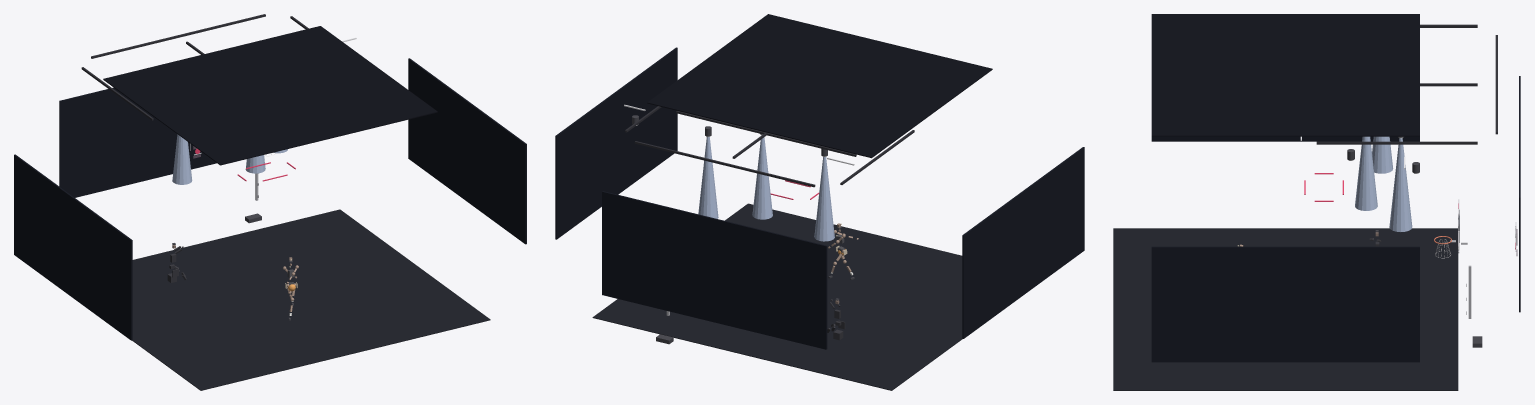
The picture shows the model from 3 angles, left to right: view 1: azimuth 30°, elevation 25°; view 2: azimuth 150°, elevation 25°; view 3: azimuth 270°, elevation 25°; orthographic projection. The views are drawn at different scales.
Visible parts, largest first — view 1: Floor, CeilingPlane, SideWallL, SideWallR, BackWall, LightBeam, TrussX; view 2: CeilingPlane, Floor, BackWall, SideWallL, SideWallR, LightBeam, LightBeam.001, LightBeam.002, TrussX, TrussX.001; view 3: CeilingPlane, SideWallR, Floor, SideWallL, LightBeam.002, LightBeam.001, LightBeam, TrussY.002, BackWall.
Boxes of the visible parts, box(x1,y1,x2,y2) form: Floor: box(132, 209, 490, 390); CeilingPlane: box(103, 26, 437, 165); SideWallL: box(14, 154, 132, 340); SideWallR: box(408, 58, 526, 244); BackWall: box(59, 87, 216, 197); LightBeam: box(172, 134, 192, 184); TrussX: box(91, 14, 265, 58); CeilingPlane: box(647, 14, 992, 158); Floor: box(592, 203, 962, 390); BackWall: box(602, 191, 827, 349); SideWallL: box(962, 147, 1084, 338); SideWallR: box(555, 47, 677, 239); LightBeam: box(814, 157, 834, 241); LightBeam.001: box(752, 135, 772, 219); LightBeam.002: box(698, 137, 718, 218); TrussX: box(634, 141, 815, 187); TrussX.001: box(676, 111, 856, 156); CeilingPlane: box(1151, 14, 1419, 136); SideWallR: box(1151, 246, 1419, 362); Floor: box(1113, 228, 1458, 390); SideWallL: box(1151, 136, 1419, 141); LightBeam.002: box(1389, 138, 1412, 231); LightBeam.001: box(1355, 136, 1377, 210); LightBeam: box(1372, 136, 1393, 173); TrussY.002: box(1316, 141, 1477, 144); BackWall: box(1519, 76, 1520, 312).
Size of the model in its own units: 13.65 by 6.77 by 10.63.
